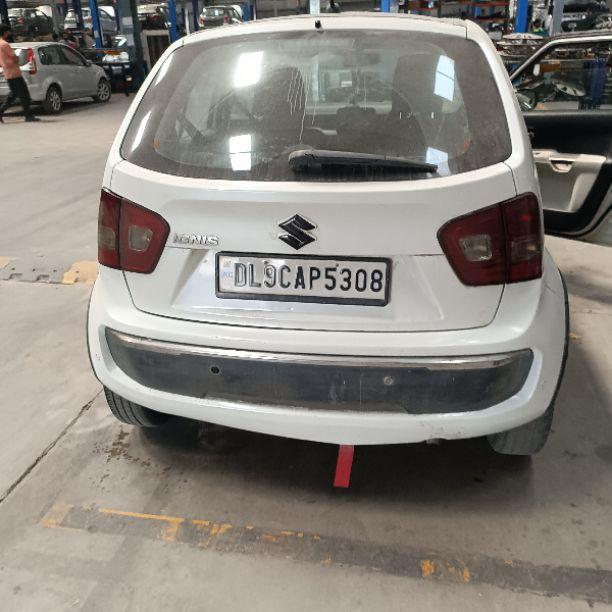license_plate: (214, 250, 392, 306)
